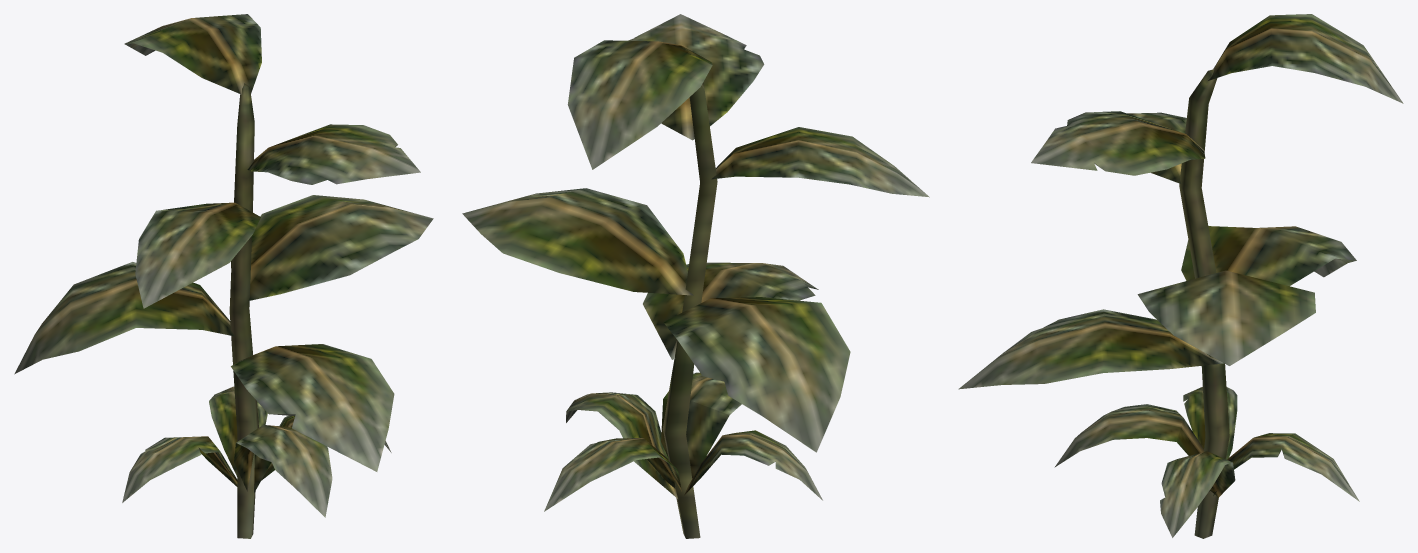
The model's file is SM_zhucheng_Fern02.FBX.
3 renders of one model, left to right at view 1: azimuth 30°, elevation 25°; view 2: azimuth 150°, elevation 25°; view 3: azimuth 270°, elevation 25°, orthographic. The views are drawn at different scales.
Visible parts, largest first — view 1: SM_zhucheng_Fern02; view 2: SM_zhucheng_Fern02; view 3: SM_zhucheng_Fern02.
Part boxes in pixels (x1,y1,x2,y2): SM_zhucheng_Fern02: [14, 14, 433, 538]; SM_zhucheng_Fern02: [462, 14, 929, 538]; SM_zhucheng_Fern02: [958, 14, 1403, 538].
Bounding box in the file's own units: 67.05 × 82.71 × 66.17.
